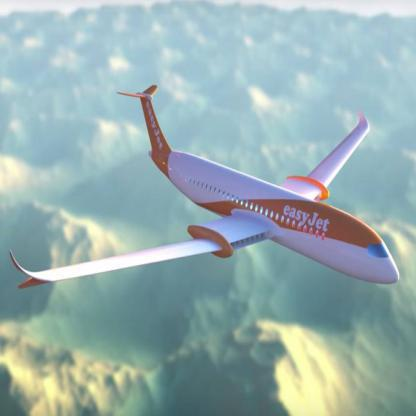CIV_Plane: (7, 78, 406, 294)
